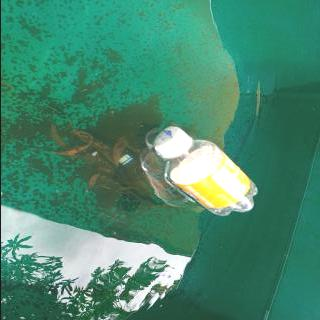bottle: (148, 123, 262, 219)
